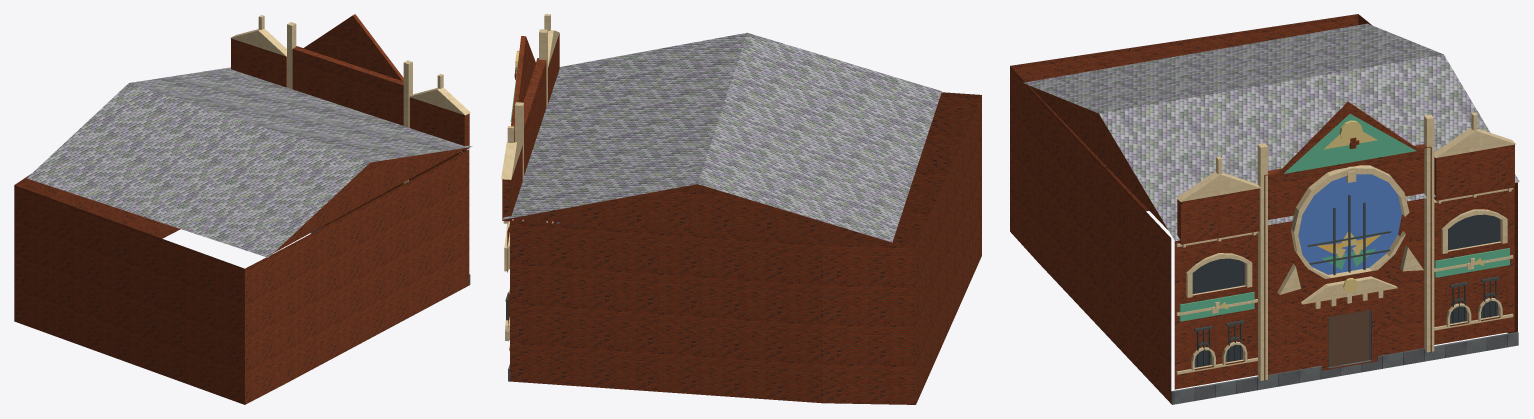
3 renders of one model, left to right at view 1: azimuth 30°, elevation 25°; view 2: azimuth 150°, elevation 25°; view 3: azimuth 270°, elevation 25°, orthographic. The views are drawn at different scales.
Parts seen in each view (by area): view 1: bldg_503713425_landmark; view 2: bldg_503713425_landmark; view 3: bldg_503713425_landmark.
Part boxes in pixels (box(x1,y1,x2,y2)): bldg_503713425_landmark: box(14, 14, 472, 404); bldg_503713425_landmark: box(501, 14, 981, 404); bldg_503713425_landmark: box(1010, 14, 1519, 404).
Size of the model in its own units: 19.14 by 10.85 by 18.12.
Materials: 13 (5 with a texture image).
